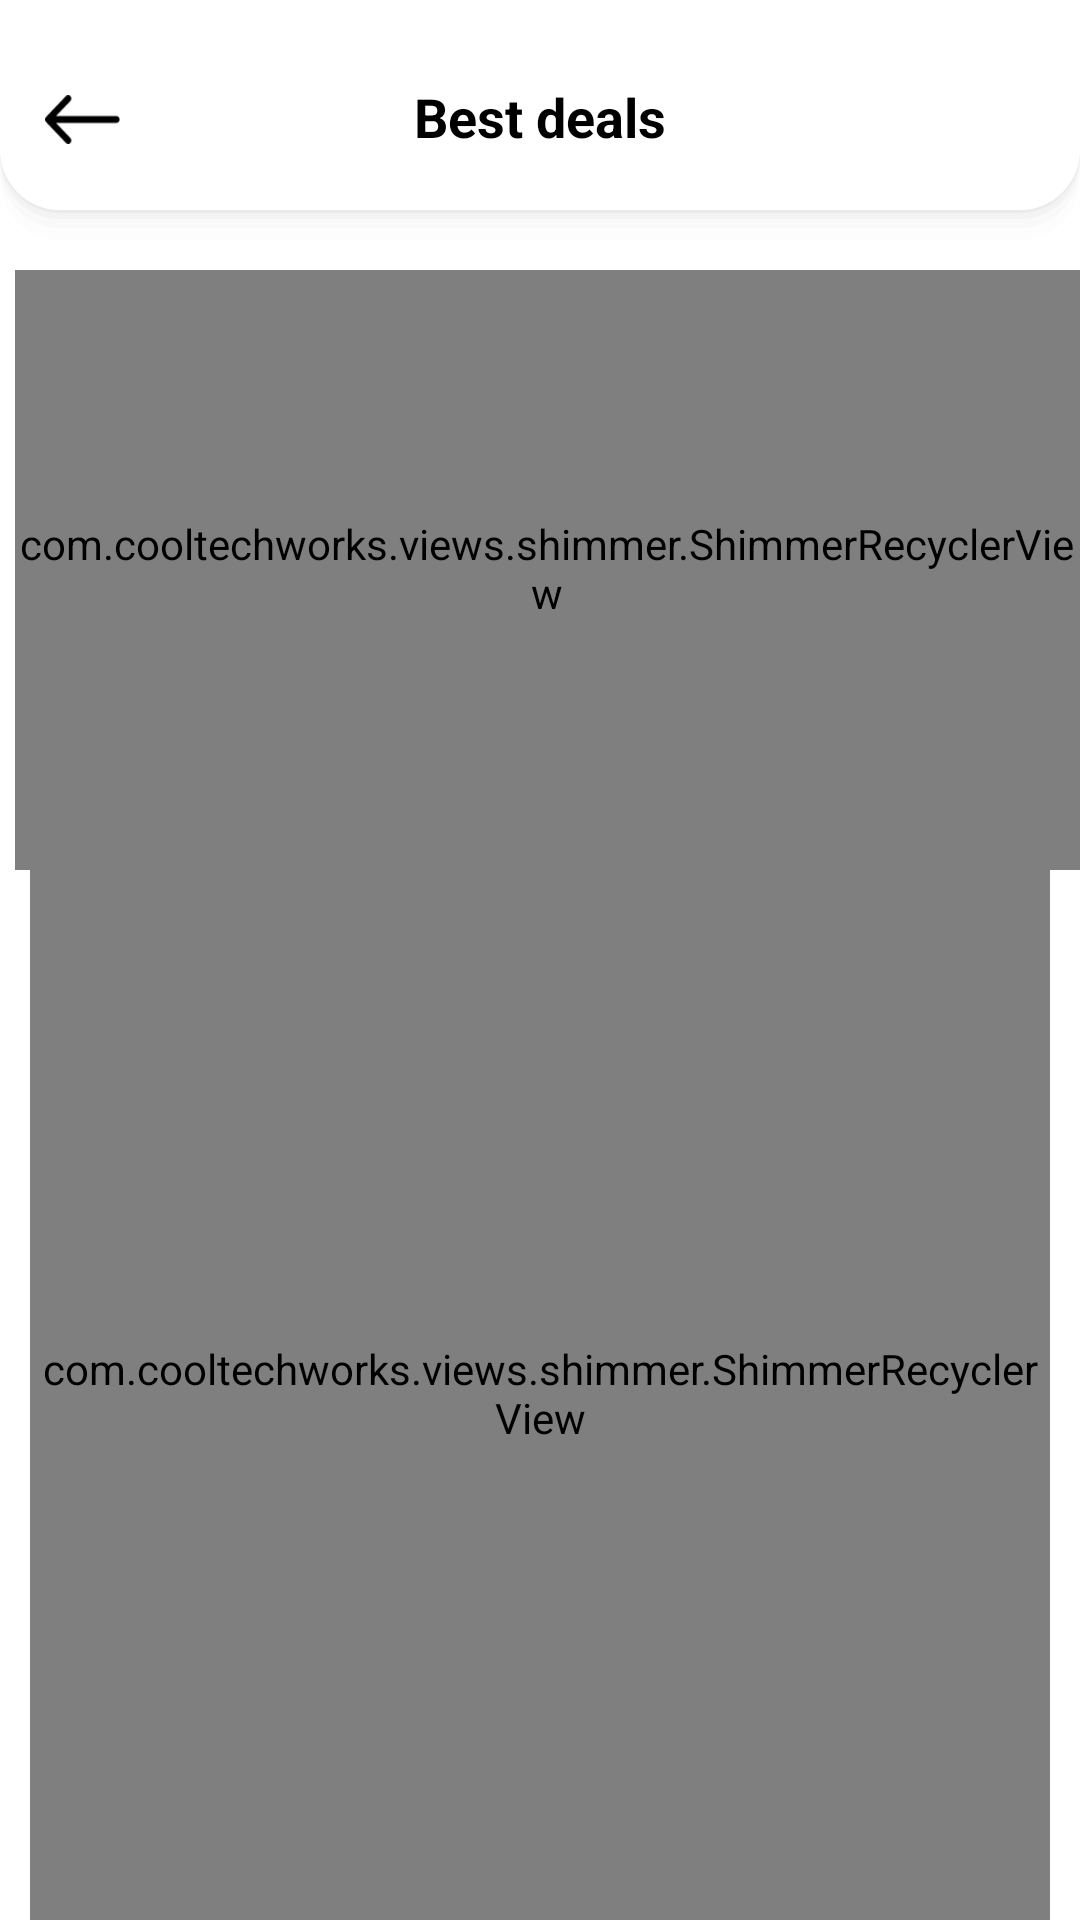

Icon bounding boxes for this 1080w x 1920h phone screenshot, format (x1,y1,x2,y2):
back: (45,95,120,144)
